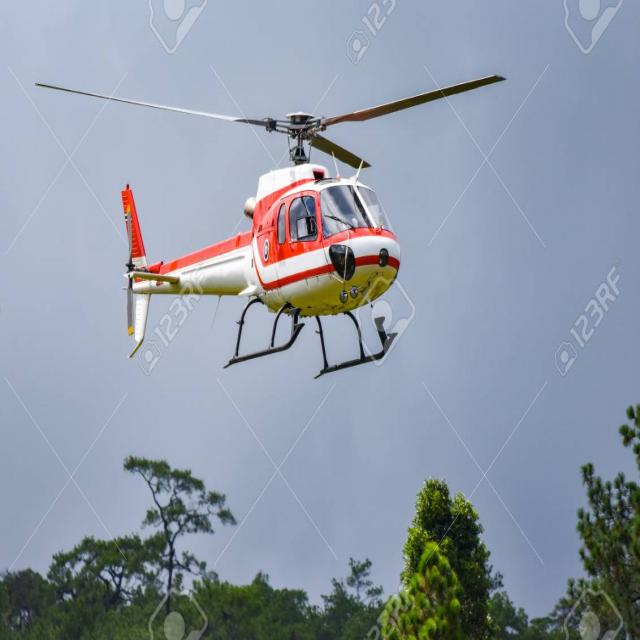helicopter: (38, 78, 497, 382)
